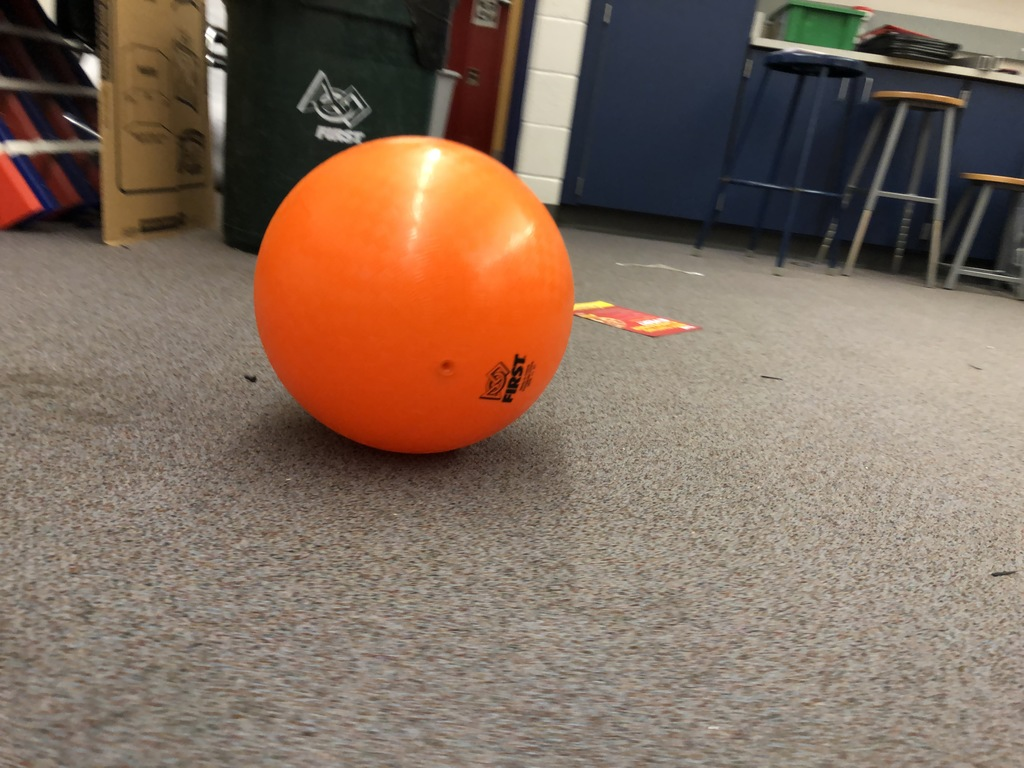cargo: (250, 130, 589, 468)
